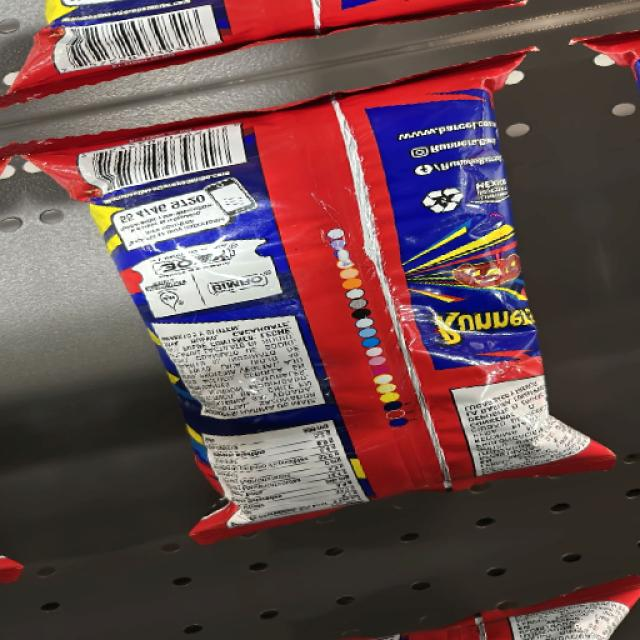productoAtras: (140, 106, 530, 496)
